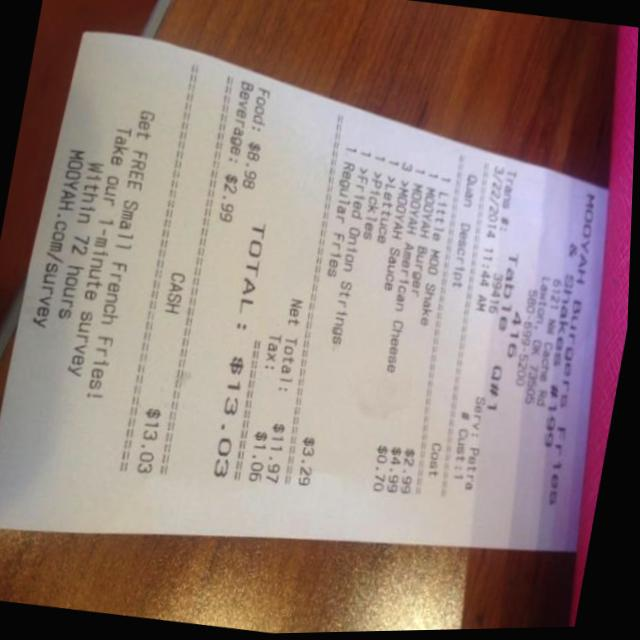Paper: (0, 13, 639, 614)
